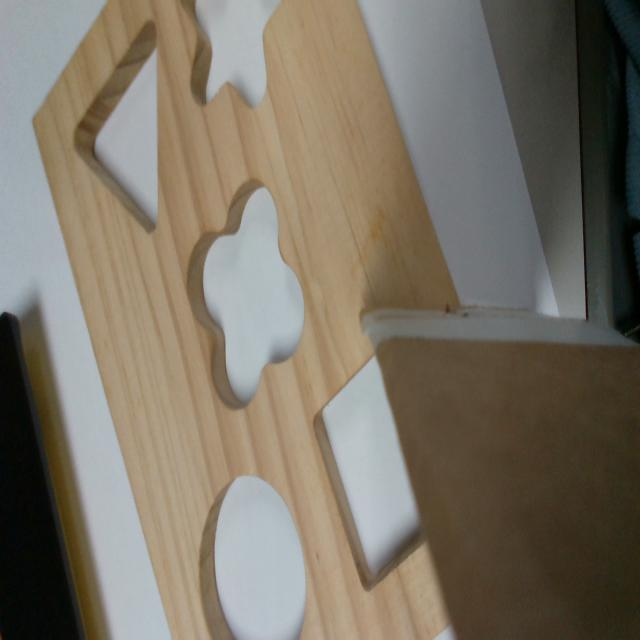circle: (199, 477, 304, 639)
flower: (185, 180, 304, 403)
square: (311, 352, 433, 594)
star: (182, 1, 284, 103)
triangle: (72, 16, 161, 236)
